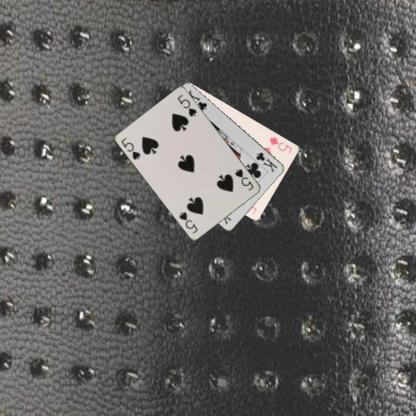5d: (267, 134, 293, 155)
5s: (232, 166, 255, 192), (119, 135, 142, 161)
Kc: (254, 150, 278, 174)
